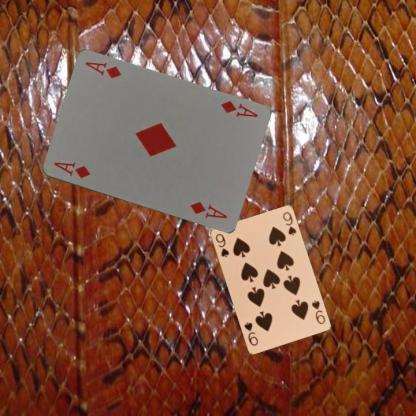9s: (212, 231, 231, 258), (308, 298, 326, 325)
Ad: (217, 98, 259, 119), (51, 160, 91, 180)
